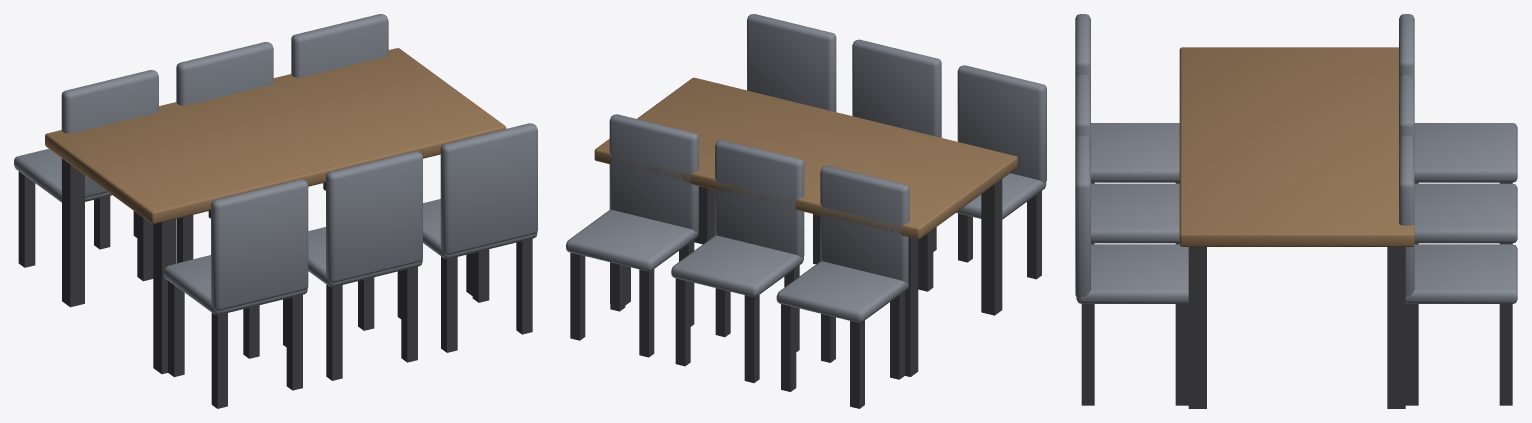
File: dining.glb
The picture shows the model from 3 angles, left to right: view 1: azimuth 30°, elevation 25°; view 2: azimuth 150°, elevation 25°; view 3: azimuth 270°, elevation 25°; orthographic projection. The views are drawn at different scales.
Parts seen in each view (by area): view 1: Dining; view 2: Dining; view 3: Dining.
Part boxes in pixels (<box>): Dining: <box>14,14,537,408</box>; Dining: <box>566,14,1046,408</box>; Dining: <box>1075,14,1517,408</box>.
Bounding box in the file's own units: 1.7 × 0.95 × 1.69.
